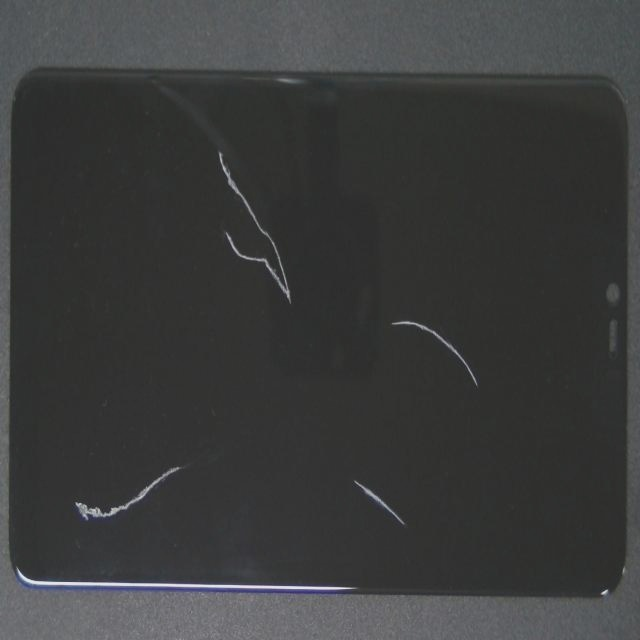scratch: (251, 296, 598, 640), (303, 248, 640, 534), (136, 200, 246, 640), (199, 226, 414, 359)
